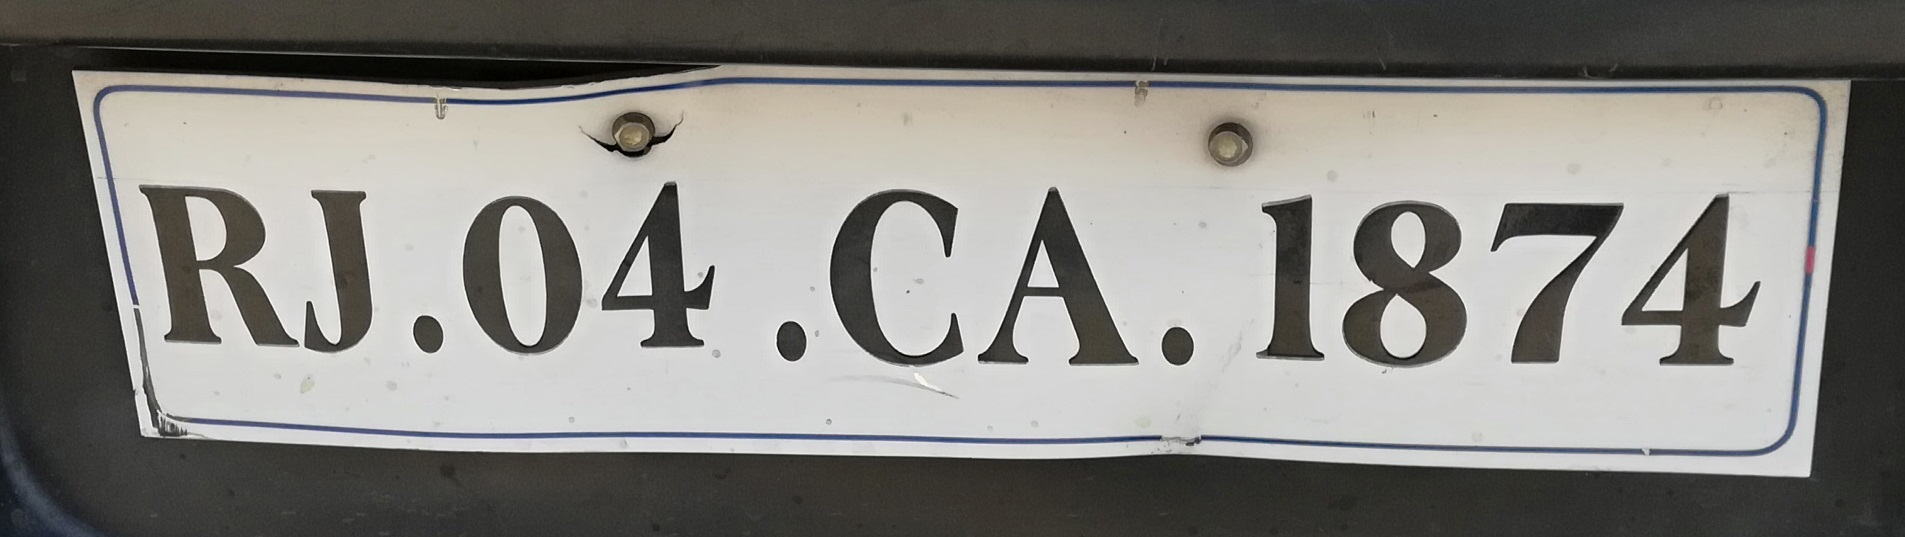numberplate: (62, 43, 1854, 489)
